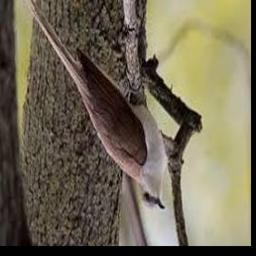Cuckoo: (20, 0, 166, 211)
